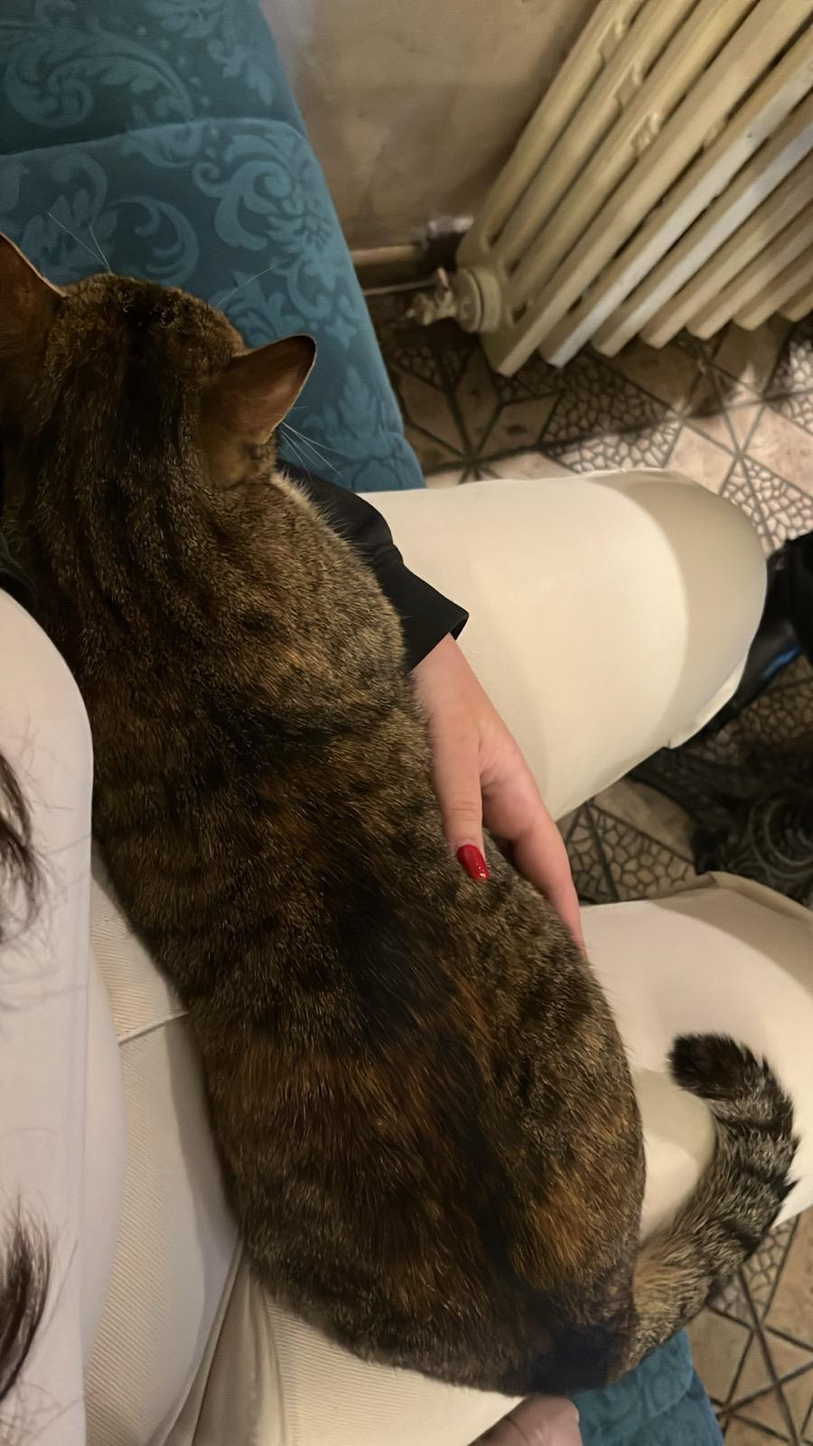macka: (0, 232, 795, 1401)
